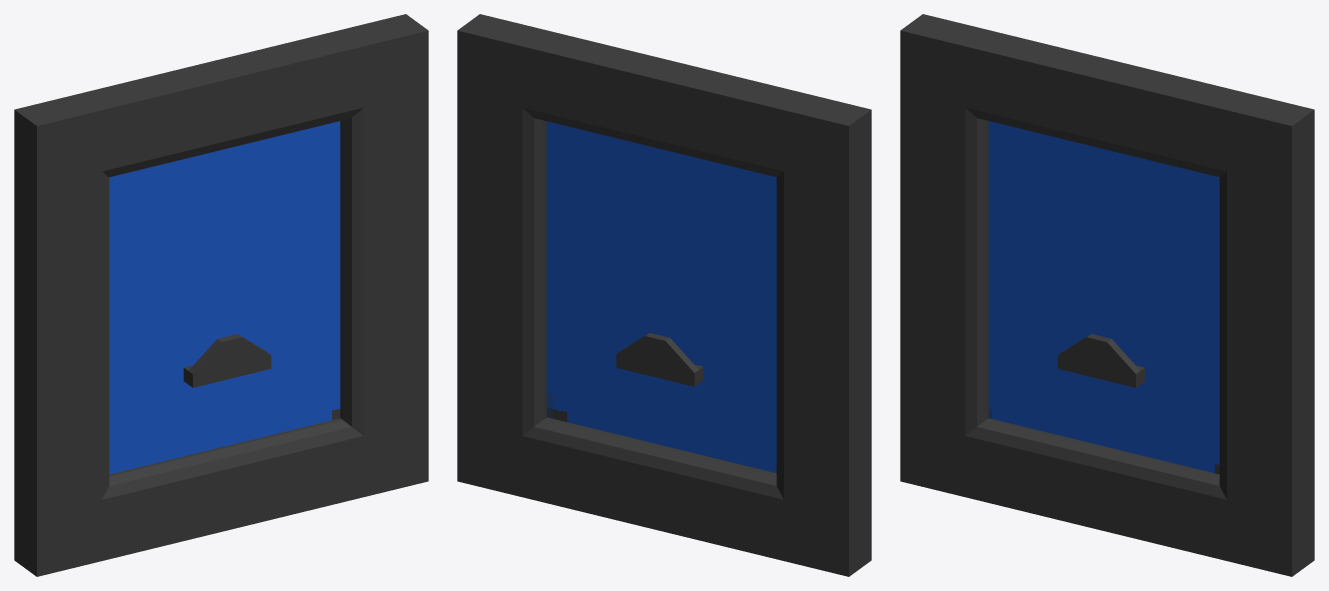
The model's file is F7_BigDoor.glb.
The picture shows the model from 3 angles, left to right: view 1: azimuth 30°, elevation 25°; view 2: azimuth 150°, elevation 25°; view 3: azimuth 330°, elevation 25°; orthographic projection.
Parts seen in each view (by area): view 1: TopEngiDoor; view 2: TopEngiDoor; view 3: TopEngiDoor.
Part boxes in pixels (left/top/right/bottom): TopEngiDoor: left=14, top=14, right=428, bottom=576; TopEngiDoor: left=457, top=14, right=871, bottom=576; TopEngiDoor: left=900, top=14, right=1314, bottom=576.
Bounding box in the file's own units: 3 × 3.3 × 0.3.
Materials: 1 (1 with a texture image).
